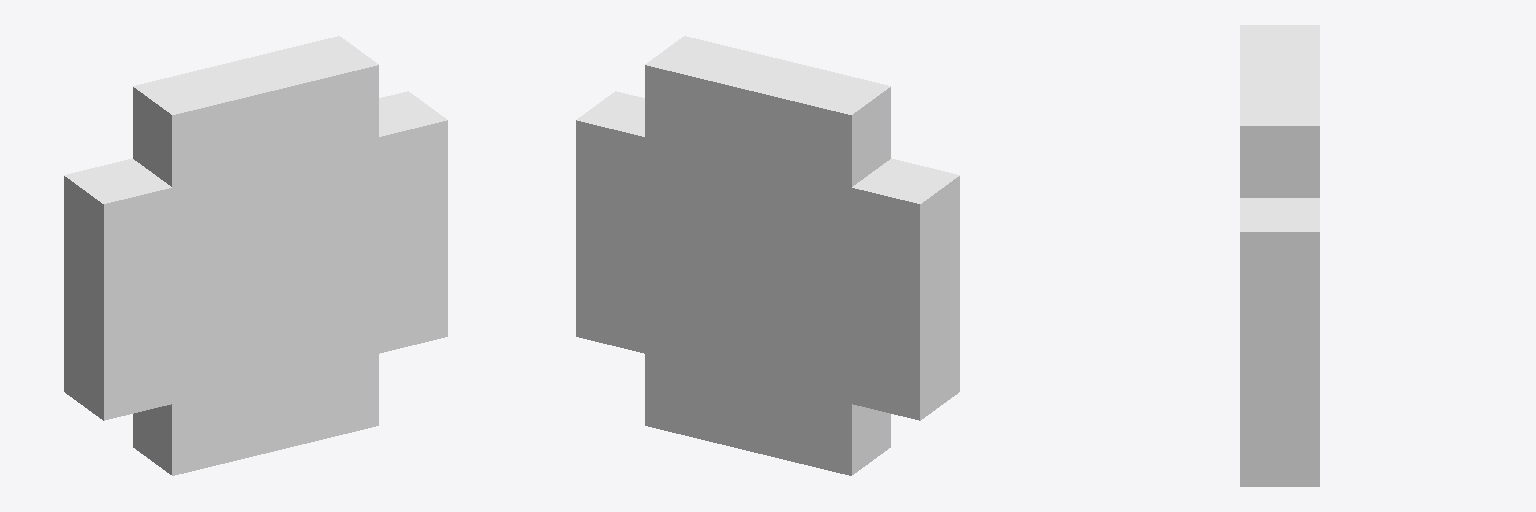
The model's file is eye8.obj.
The picture shows the model from 3 angles: view 1: azimuth 30°, elevation 25°; view 2: azimuth 150°, elevation 25°; view 3: azimuth 270°, elevation 25°; orthographic projection.
Visible parts, largest first — view 1: eye8; view 2: eye8; view 3: eye8.
Part boxes in pixels (x1,y1,x2,y2): eye8: (64,36,447,475); eye8: (576,36,959,475); eye8: (1240,25,1319,486).
Bounding box in the file's own units: 0.5 × 0.5 × 0.1.